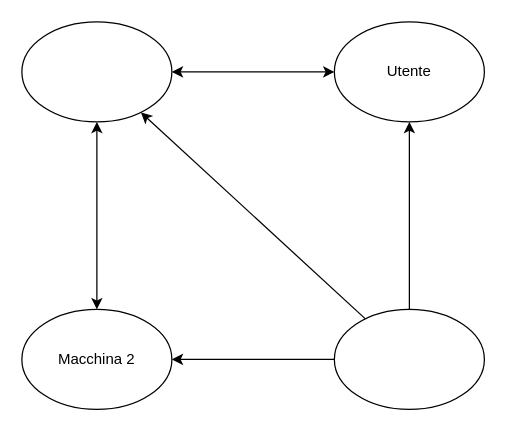
This 506x431 diagram has some shape labels left out. The shapes that lost their labels are listed below. From the top down, each one's centre as x and y in pixels, then its label:
the point at 96,71: Macchina 1
the point at 408,358: Ambiente
